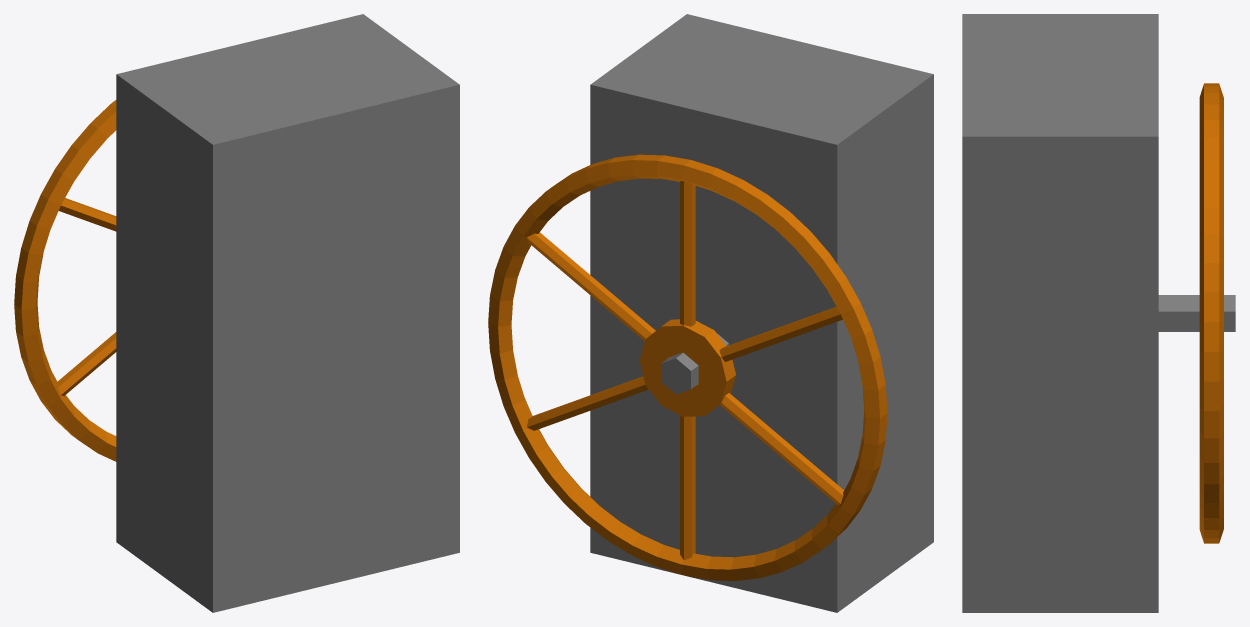
Rendered from Outpost_Valve.fbx.
The picture shows the model from 3 angles, left to right: view 1: azimuth 30°, elevation 25°; view 2: azimuth 150°, elevation 25°; view 3: azimuth 270°, elevation 25°; orthographic projection.
Parts seen in each view (by area): view 1: Housing, Wheel; view 2: Housing, Wheel, Pin; view 3: Housing, Wheel, Pin.
Boxes of the visible parts, x1,y1,x2,y2 form: Housing: (116,14,459,612); Wheel: (14,100,116,461); Housing: (590,14,933,612); Wheel: (488,154,887,580); Pin: (661,333,728,394); Housing: (962,14,1158,612); Wheel: (1199,83,1223,543); Pin: (1158,295,1235,331).
Size of the model in its own units: 0.9005 by 0.5347 by 1.03.
